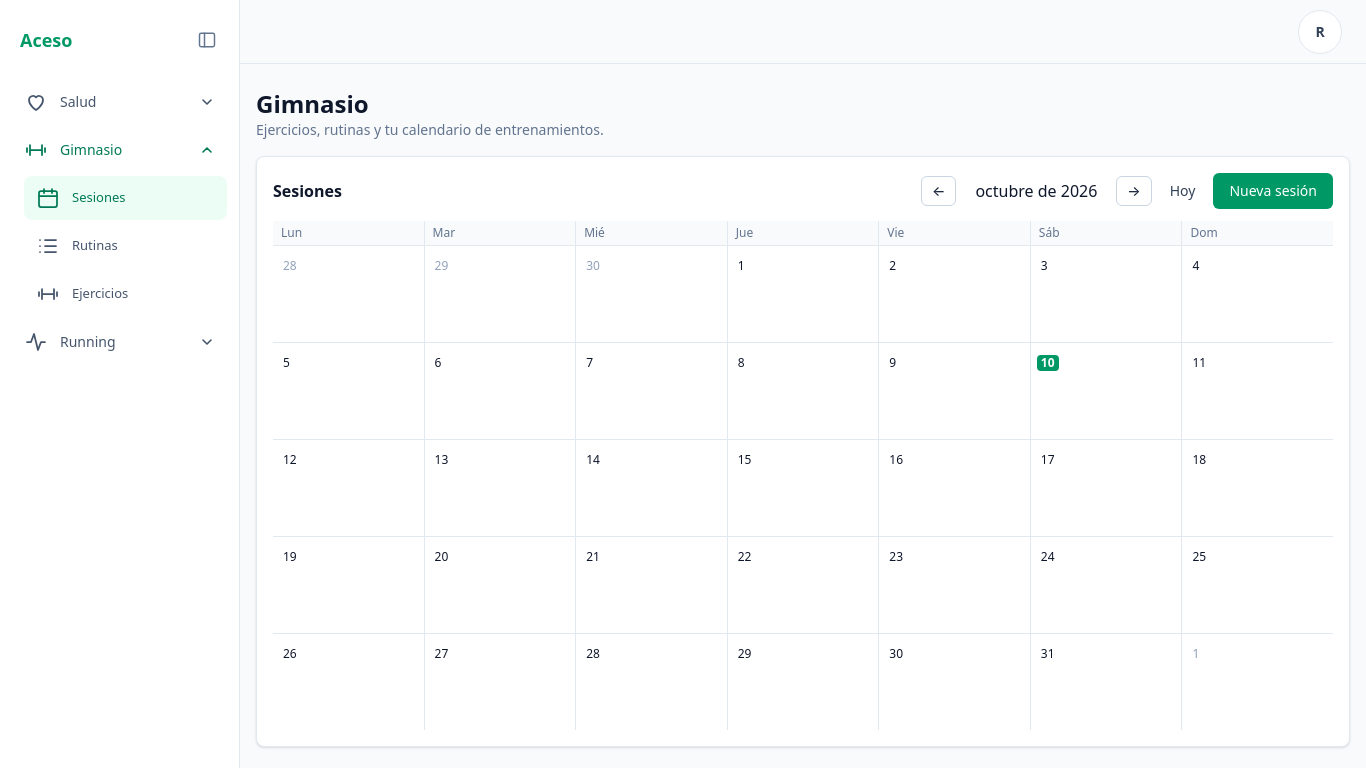
Test: authentication flow › logs out from the app shell
Click the button named "Abrir menú de perfil" at (1320, 32), box [1298,10,1342,54]
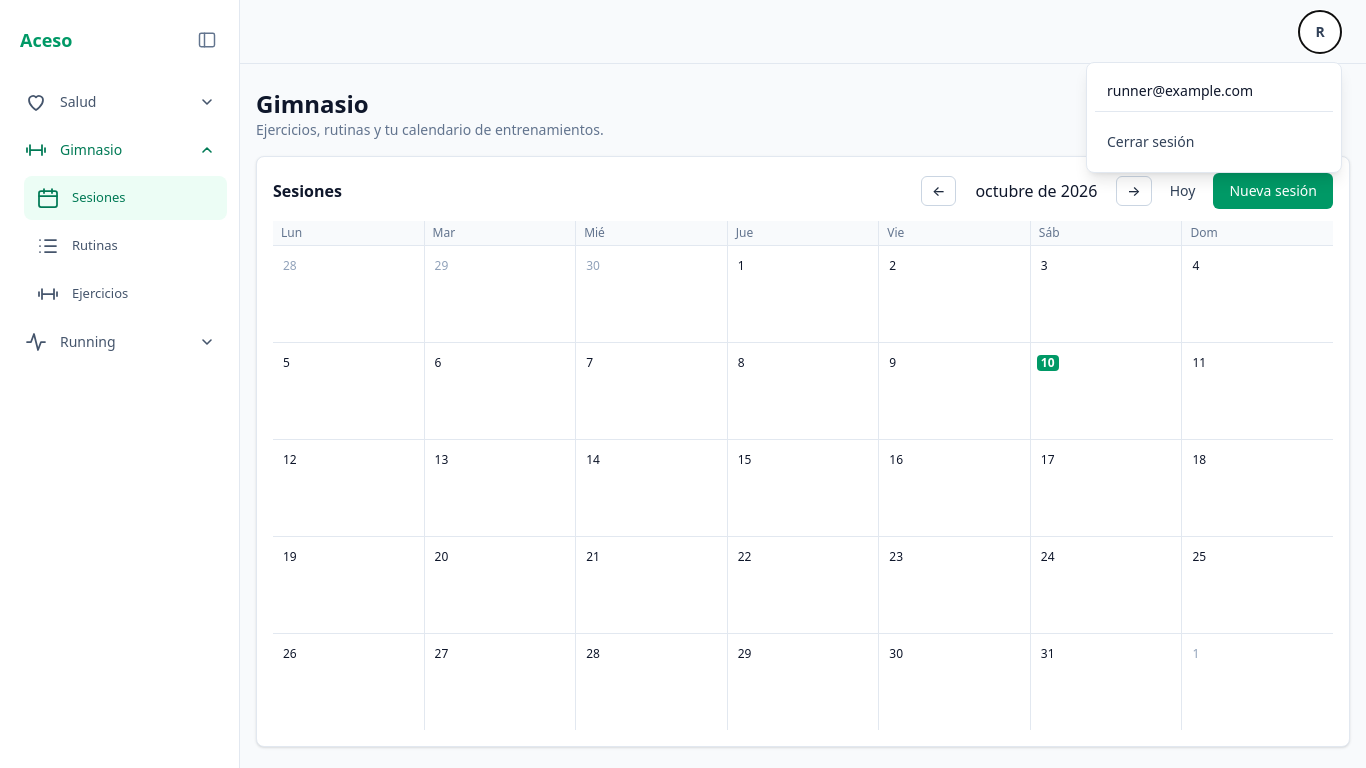
Click the button "Cerrar sesión" at (1214, 142), box [1095,120,1333,164]
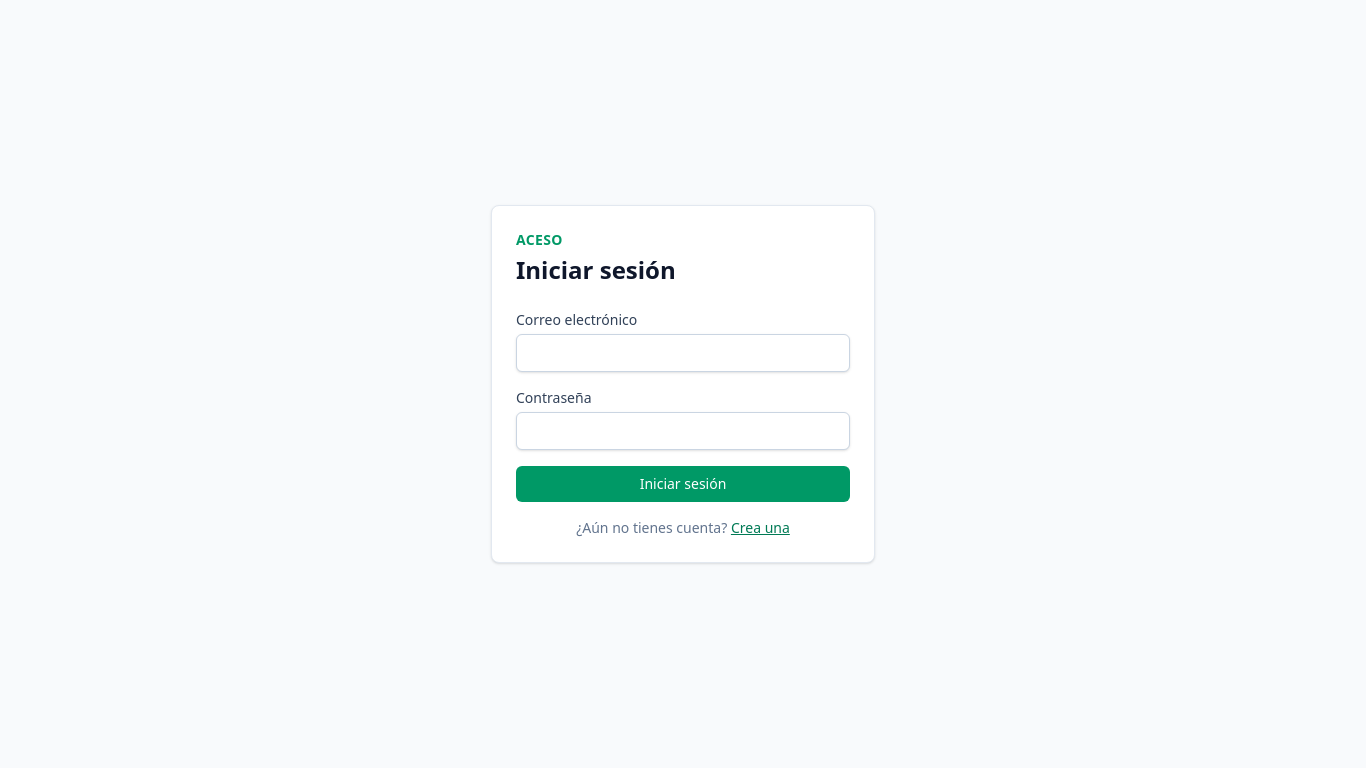
Result: the heading "Iniciar sesión" is shown at [516,253,676,286]
